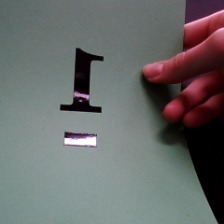green1: (41, 39, 117, 155)
